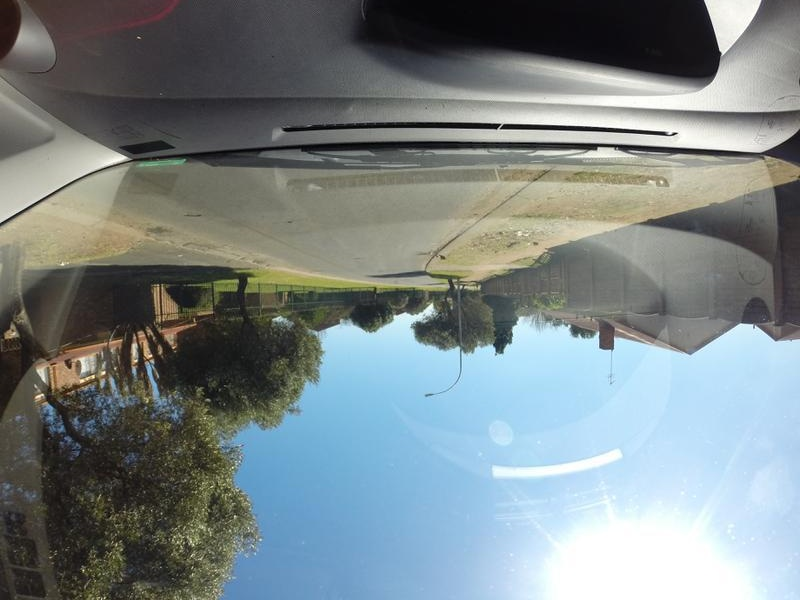pothole: (172, 200, 204, 226)
